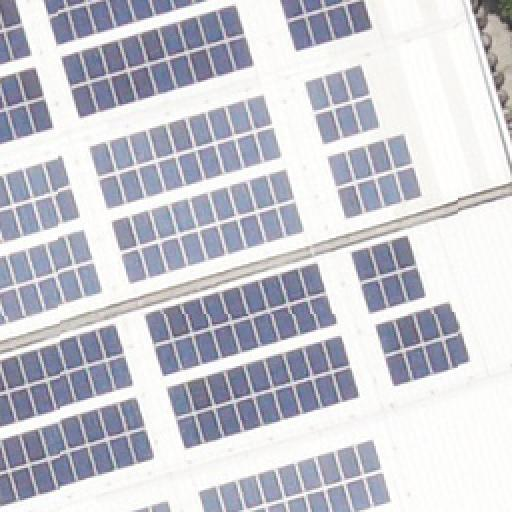solar-panel: (61, 2, 259, 122), (166, 333, 362, 451), (88, 93, 284, 211), (109, 168, 307, 284), (143, 260, 337, 376), (0, 394, 156, 510), (0, 321, 136, 431), (197, 440, 395, 512), (0, 230, 104, 326), (326, 131, 426, 221), (374, 301, 470, 387), (43, 0, 213, 48), (0, 155, 84, 245), (304, 63, 384, 145), (350, 234, 430, 314), (280, 1, 376, 55), (0, 64, 56, 148), (0, 0, 32, 64), (129, 497, 175, 511)
